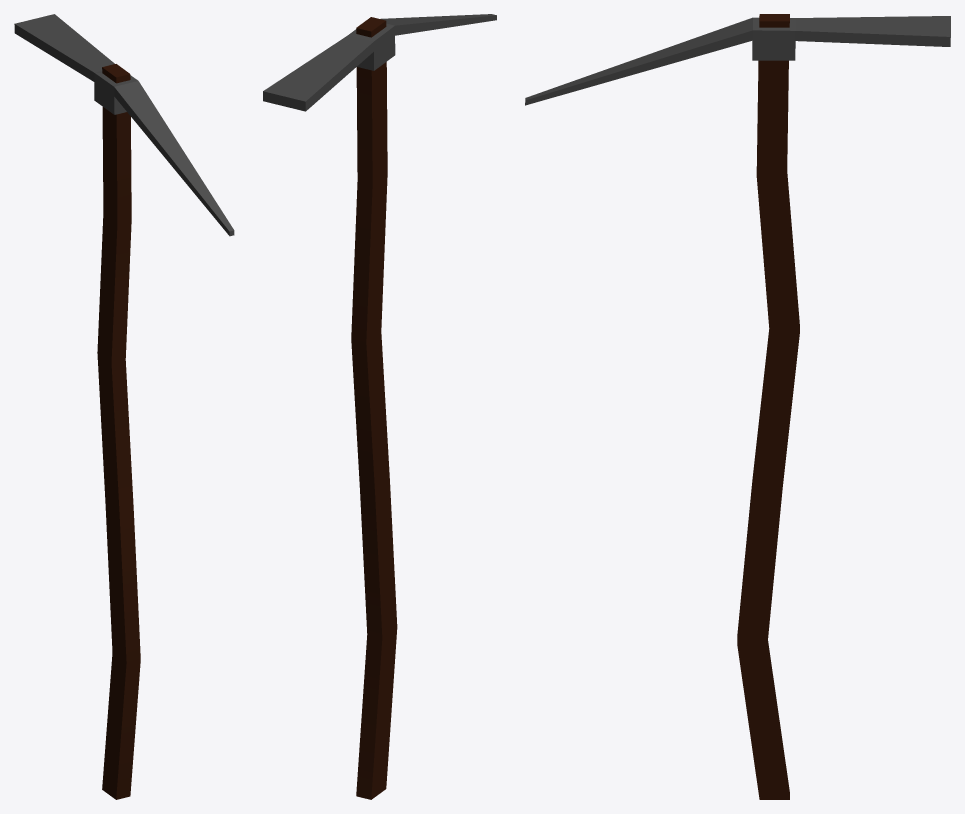
File: PickaxeLowPoly.FBX
The picture shows the model from 3 angles, left to right: view 1: azimuth 30°, elevation 25°; view 2: azimuth 150°, elevation 25°; view 3: azimuth 270°, elevation 25°; orthographic projection. The views are drawn at different scales.
Visible parts, largest first — view 1: Pioche; view 2: Pioche; view 3: Pioche.
Boxes of the visible parts, x1,y1,x2,y2 form: Pioche: (14, 14, 234, 799); Pioche: (263, 14, 496, 799); Pioche: (525, 14, 950, 799).
Size of the model in its own units: 2.2 by 37.74 by 18.7.
